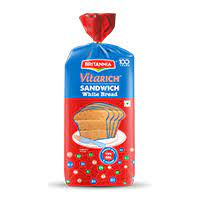bread: (59, 13, 138, 188)
